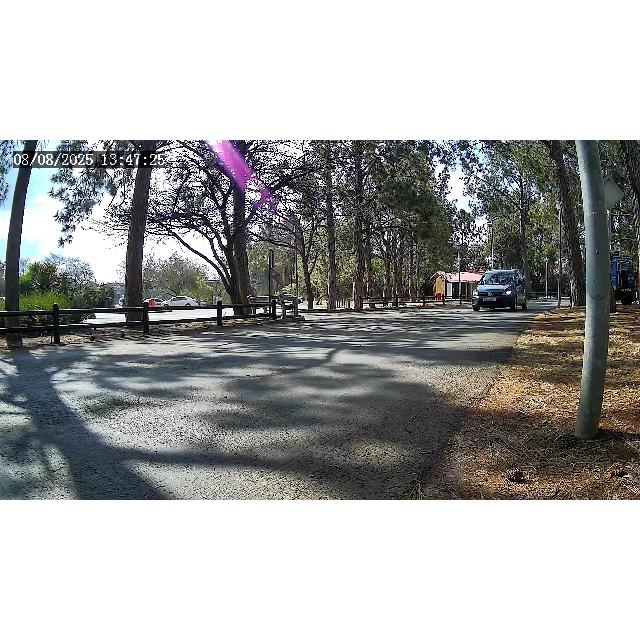car: (472, 268, 528, 312)
